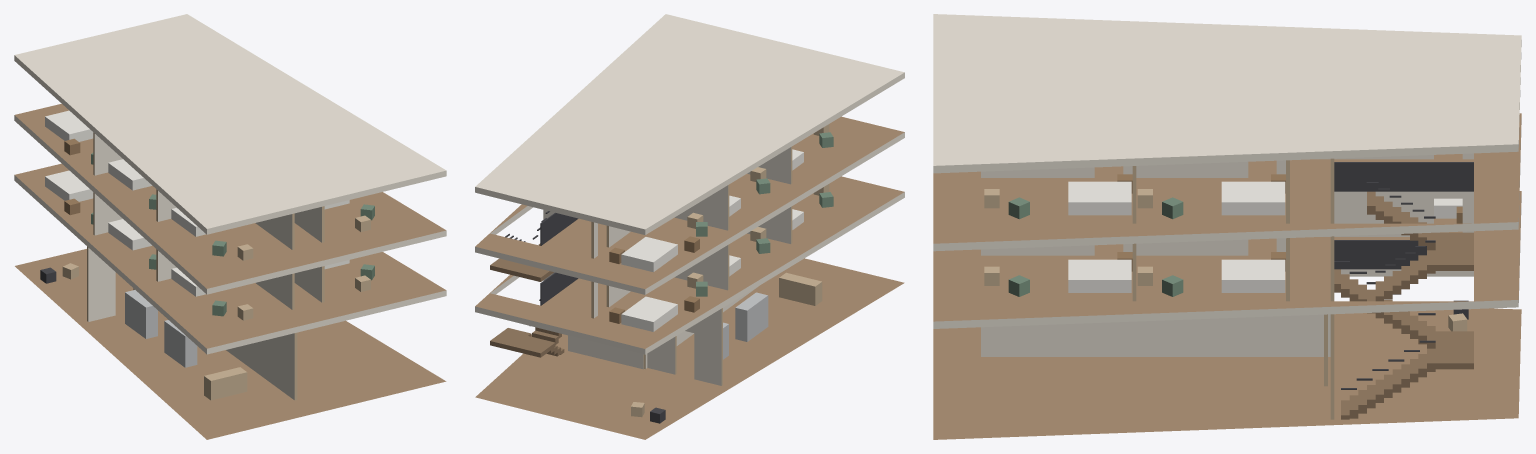
File: interior.glb
3 renders of one model, left to right at view 1: azimuth 30°, elevation 25°; view 2: azimuth 150°, elevation 25°; view 3: azimuth 270°, elevation 25°, orthographic. The views are drawn at different scales.
Visible parts, largest first — view 1: slabs, partitions, coarse-s0, coarse-s2, coarse-s1; view 2: slabs, partitions, stair, coarse-s1, coarse-s2, coarse-s0; view 3: slabs, partitions, stair, coarse-s1, coarse-s2.
Part boxes in pixels (x1,y1,x2,y2): slabs: [14, 14, 446, 439]; partitions: [87, 132, 324, 400]; coarse-s0: [40, 263, 247, 400]; coarse-s2: [45, 110, 374, 260]; coarse-s1: [45, 170, 374, 320]; slabs: [475, 14, 904, 439]; partitions: [543, 146, 792, 385]; stair: [490, 211, 578, 357]; coarse-s1: [609, 184, 833, 331]; coarse-s2: [609, 124, 833, 272]; coarse-s0: [631, 272, 822, 423]; slabs: [933, 14, 1521, 439]; partitions: [981, 153, 1473, 419]; stair: [1334, 162, 1473, 419]; coarse-s1: [984, 198, 1462, 296]; coarse-s2: [984, 174, 1285, 219].
Size of the model in its own units: 11.29 by 9.52 by 18.48.
